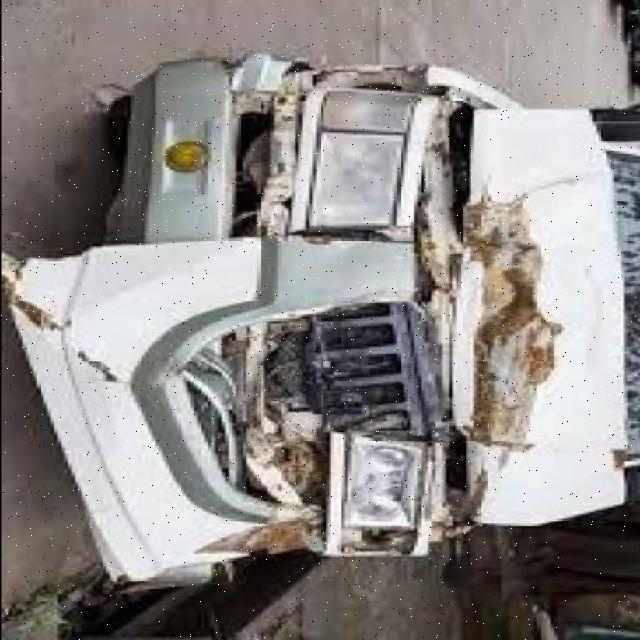damage: (7, 52, 626, 591)
